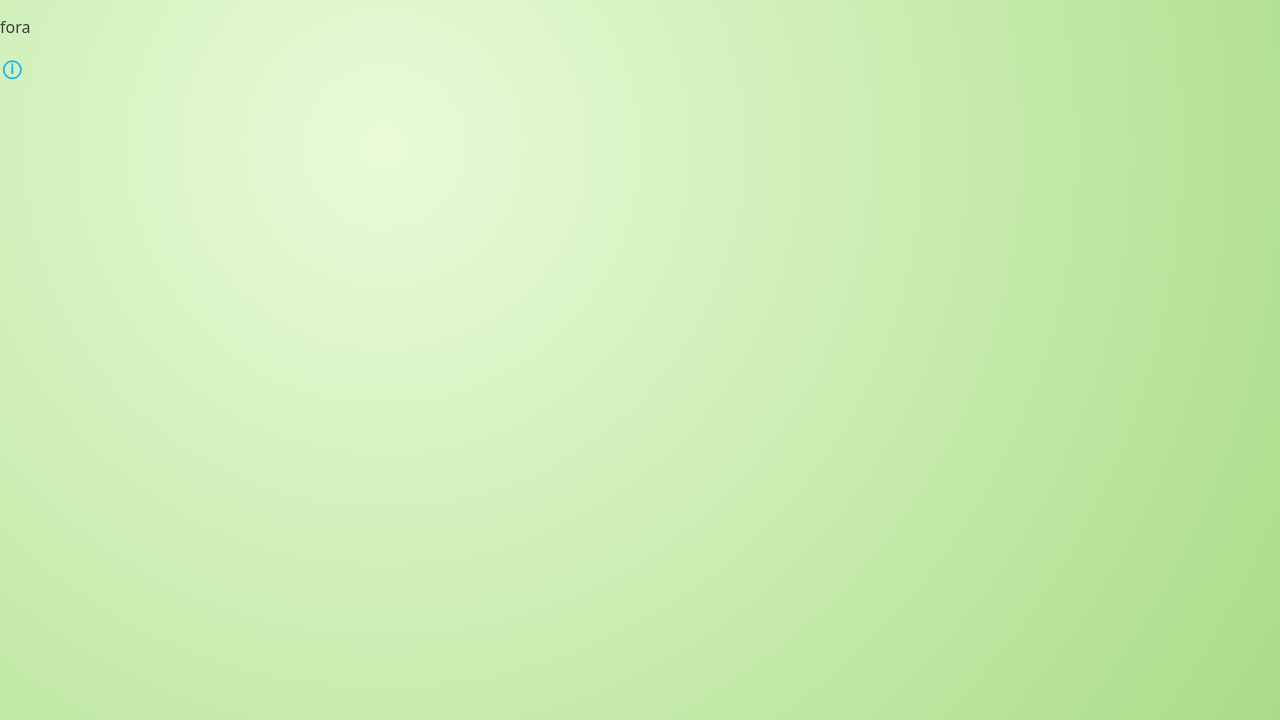
Scenario: InfoIcon (TIP-03, TIP-04) › tapping ⓘ shows the related fact; an outside tap closes it
Expected: the text "Pilhas vazam líquido corrosivo." is not shown
Click the button named "Saiba mais: Pilhas".
click(12, 67)  # box [0, 55, 24, 79]
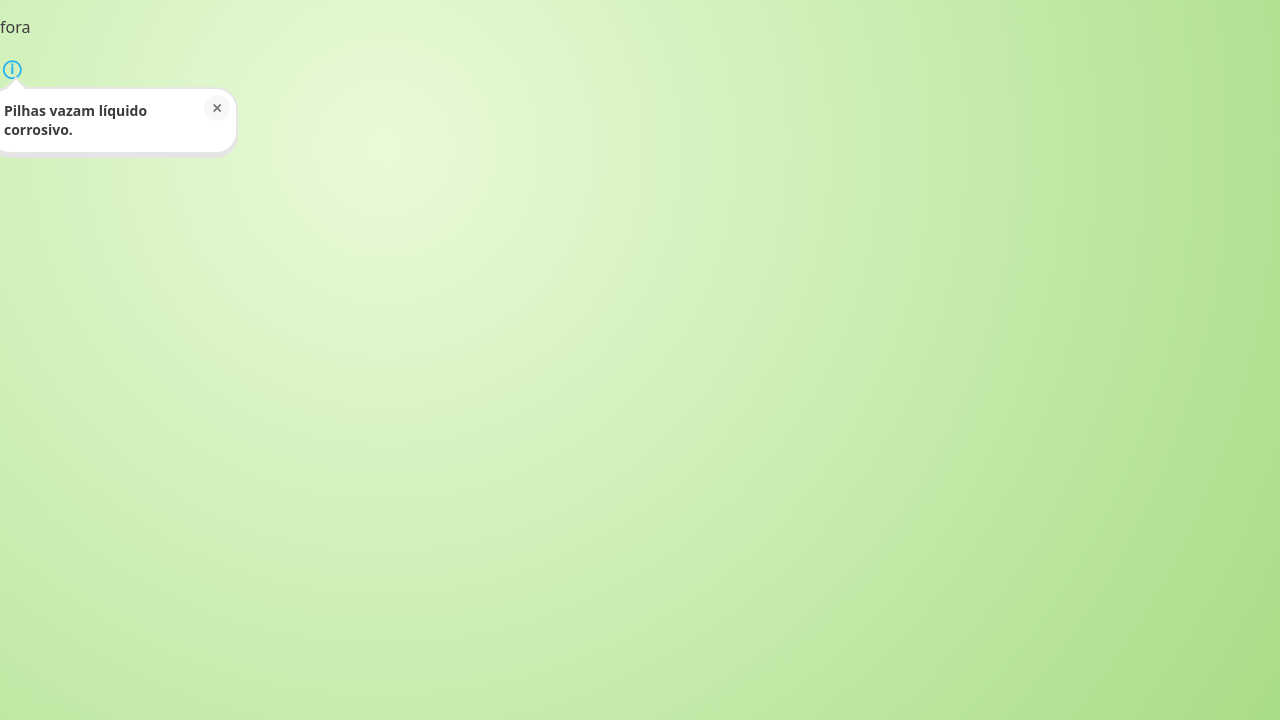
Expected: the text "Pilhas vazam líquido corrosivo." is shown, [4, 101, 147, 139]
Press the mouse on the text "fora" at coordinates (15, 27), box [0, 16, 30, 38]
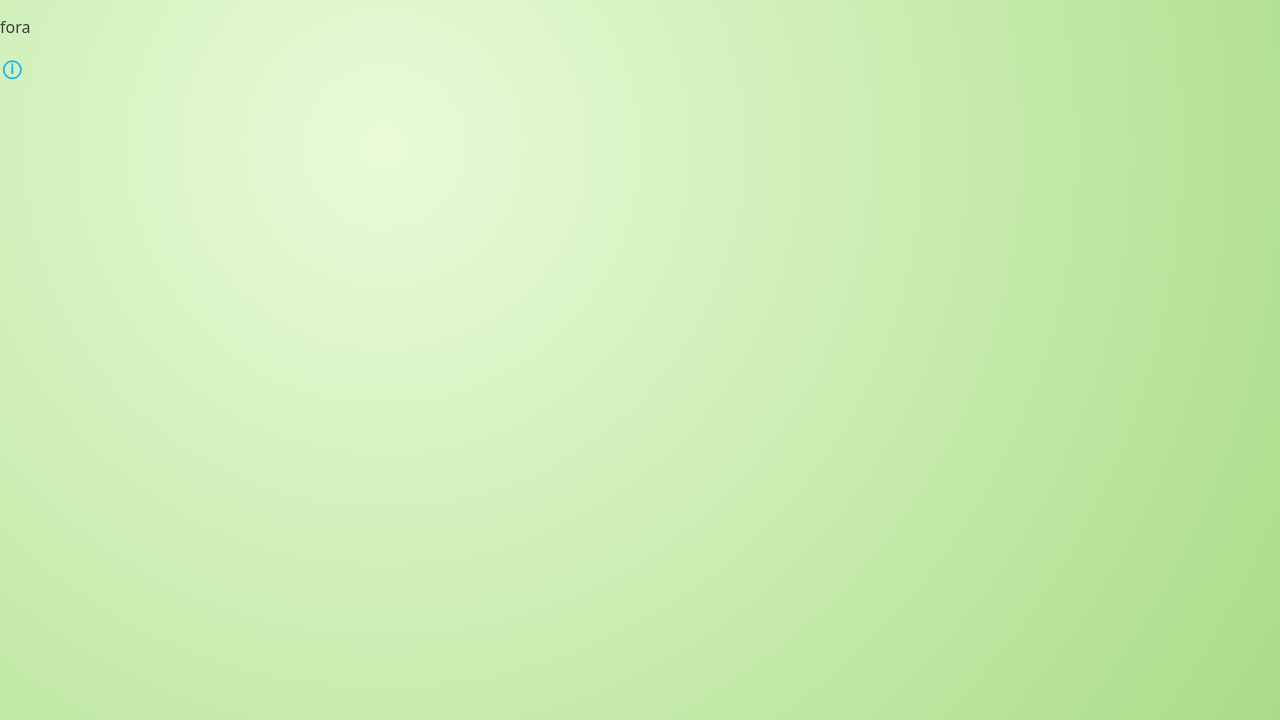
Expected: the text "Pilhas vazam líquido corrosivo." is gone
